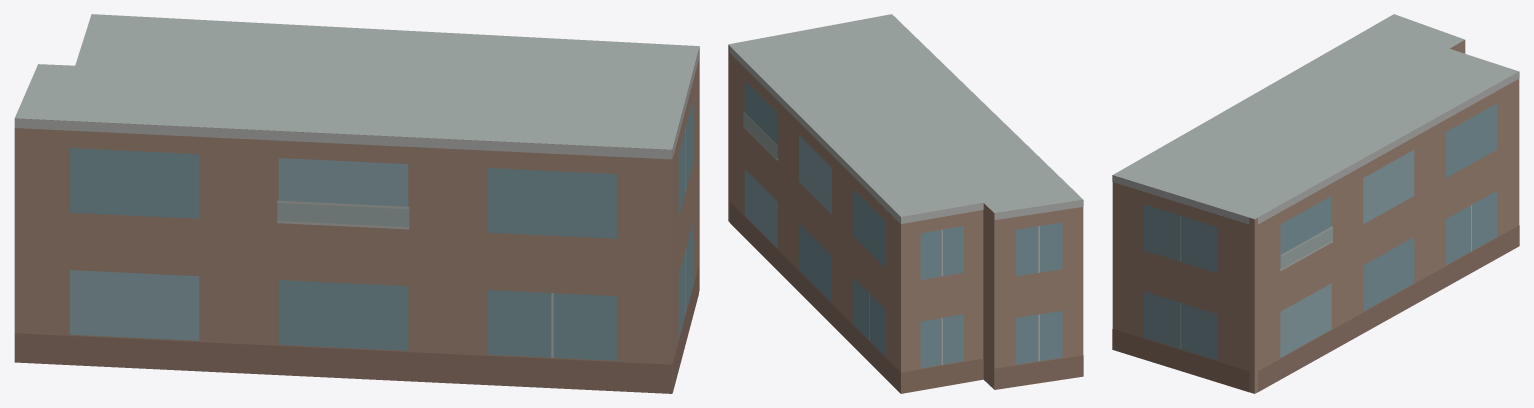
File: survey-upis-32718470.glb
3 renders of one model, left to right at view 1: azimuth 30°, elevation 25°; view 2: azimuth 150°, elevation 25°; view 3: azimuth 270°, elevation 25°, orthographic. The views are drawn at different scales.
Visible parts, largest first — view 1: survey-upis-32718470.tmp; view 2: survey-upis-32718470.tmp; view 3: survey-upis-32718470.tmp.
Boxes of the visible parts, x1=… form: survey-upis-32718470.tmp: x1=14, y1=14, x2=699, y2=393; survey-upis-32718470.tmp: x1=728, y1=14, x2=1083, y2=393; survey-upis-32718470.tmp: x1=1112, y1=14, x2=1519, y2=393.
Bounding box in the file's own units: 15.37 × 6.1 × 12.88.
